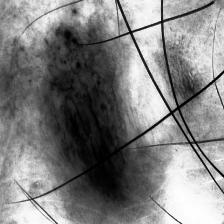Benign Marking or Mole: (31, 16, 161, 209)
